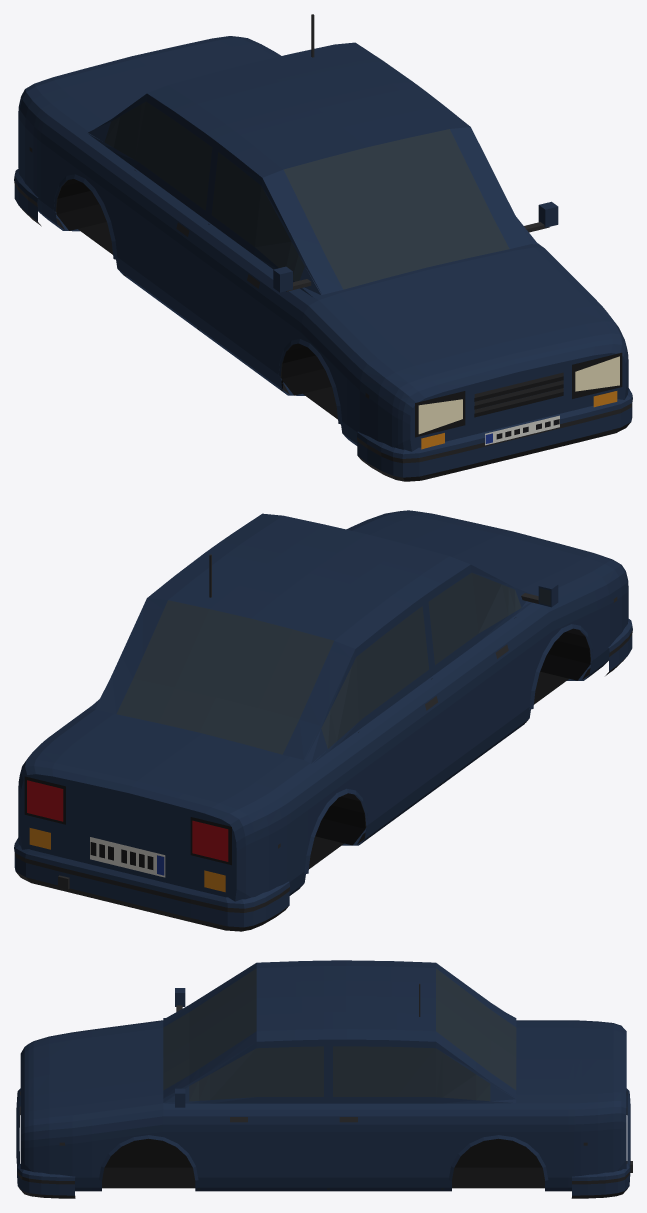
The model's file is marelo-fulgor.glb.
3 renders of one model, top to bottom at view 1: azimuth 30°, elevation 25°; view 2: azimuth 150°, elevation 25°; view 3: azimuth 270°, elevation 25°, orthographic. The views are drawn at different scales.
Parts seen in each view (by area): view 1: LOD0, door_FR, door_RR; view 2: LOD0, door_FR, door_RR; view 3: LOD0, door_FL, door_RL.
Part boxes in pixels (bbox=[...]): LOD0: bbox=[14, 14, 632, 481]; door_FR: bbox=[196, 144, 299, 387]; door_RR: bbox=[121, 93, 213, 325]; LOD0: bbox=[14, 510, 632, 931]; door_FR: bbox=[427, 564, 529, 779]; door_RR: bbox=[351, 598, 444, 834]; LOD0: bbox=[16, 960, 632, 1198]; door_FL: bbox=[199, 1039, 326, 1187]; door_RL: bbox=[330, 1039, 442, 1187].
Size of what is drawn, in the model's own units: 1.93 by 1.6 by 4.78.
